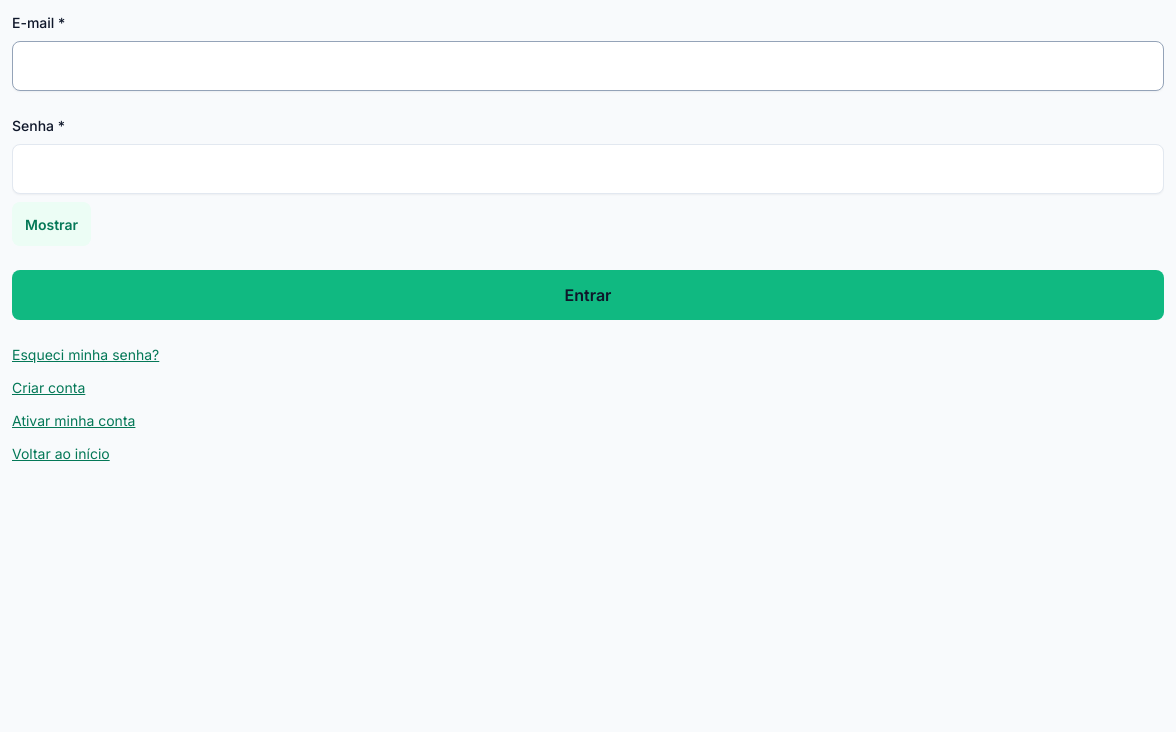
Test case: login form › displays invalid credentials without redirecting and permits correction
This screenshot has width=1176, height=732.
In the field labelled "E-mail *": (588, 66) [12,41,1164,91], type "test@example.com"
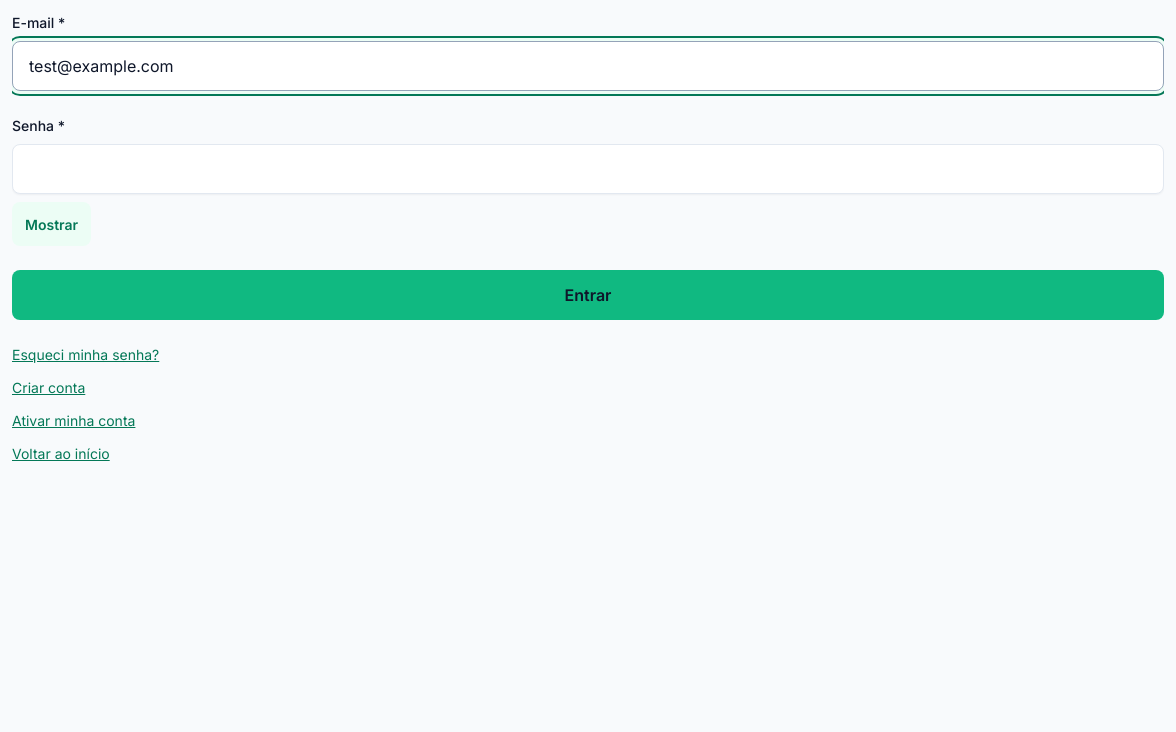
In the password field labelled "Senha *": (588, 169) [12,144,1164,194], type "synthetic-password"
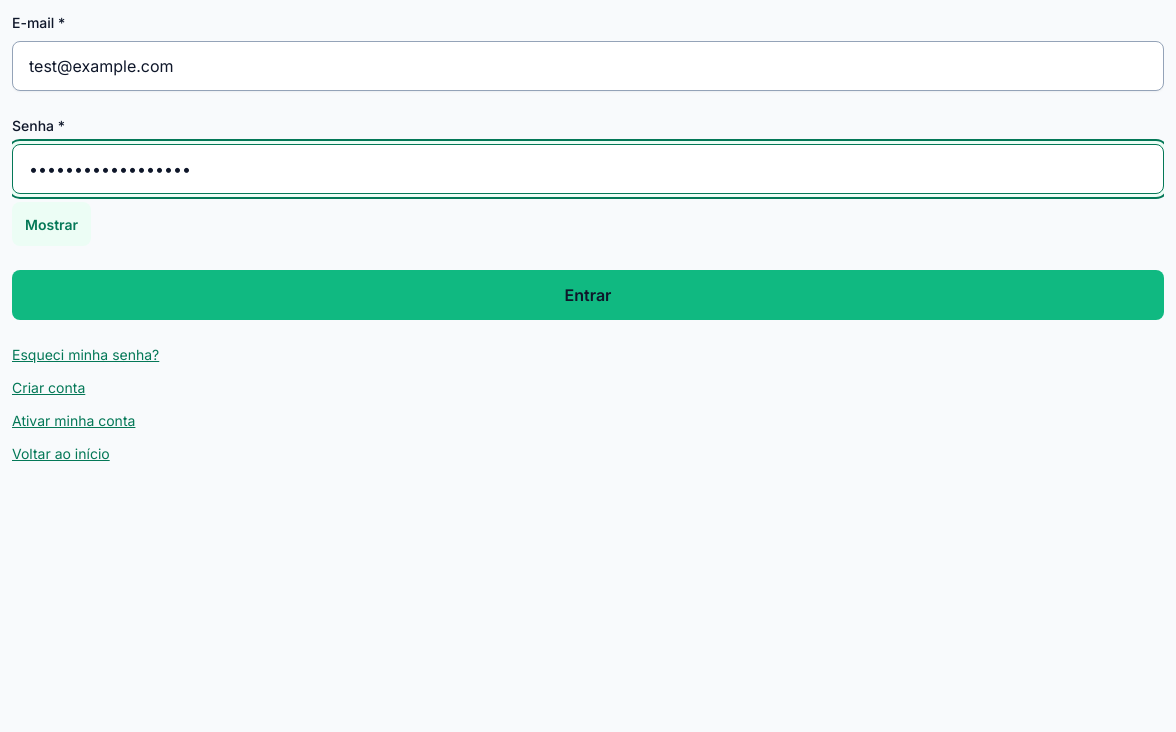
Click the button "Entrar": (588, 295) [12,270,1164,320]
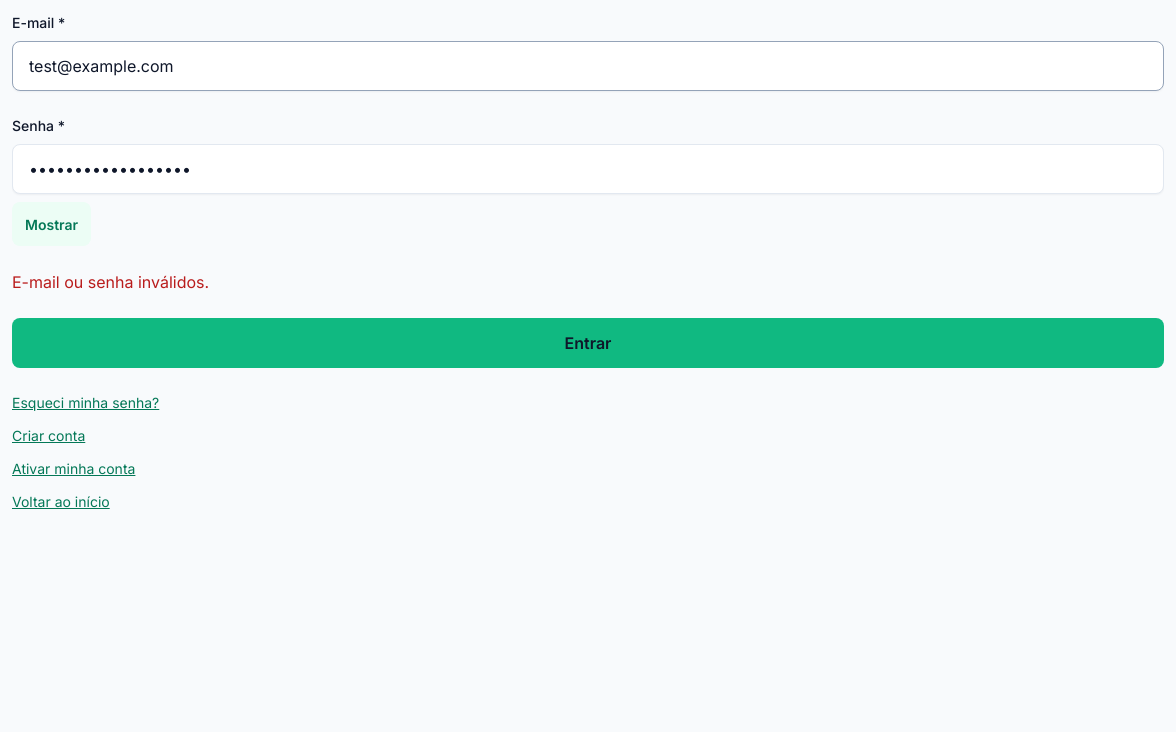
Expected: the button "Entrar" is enabled, [12,318,1164,368]
Now the message reads "E-mail ou senha inválidos.", box [12,272,209,292]
